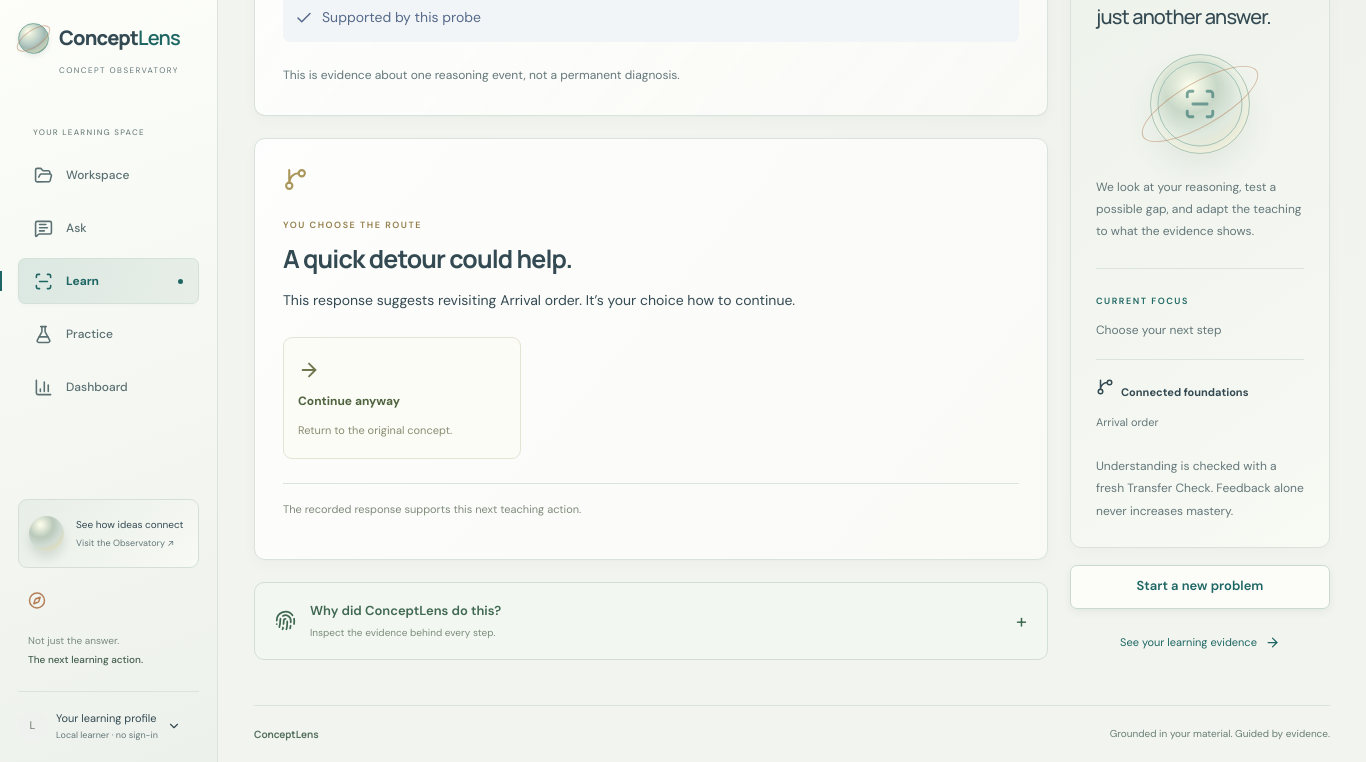
Test case: application contracts › recovers a stale prerequisite-choice by GETting the server session
(page scrolled)
Click the button "Continue anyway Return to the original concept.": (402, 398) [283, 337, 521, 459]
(page scrolled)
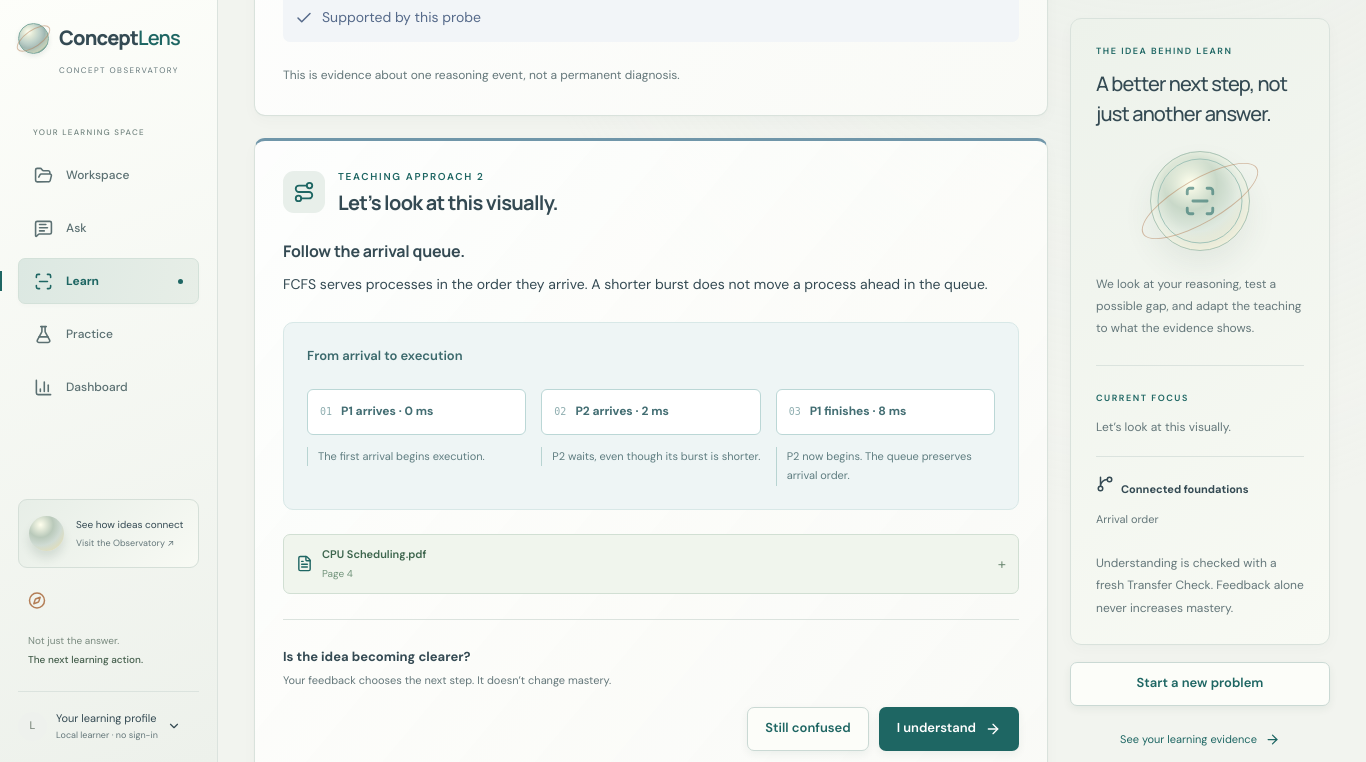
Expected: the heading "Let’s look at this visually." is shown, [338, 190, 558, 216]
Expected: the text "P2 arrives · 2 ms" is shown, [575, 402, 669, 422]
